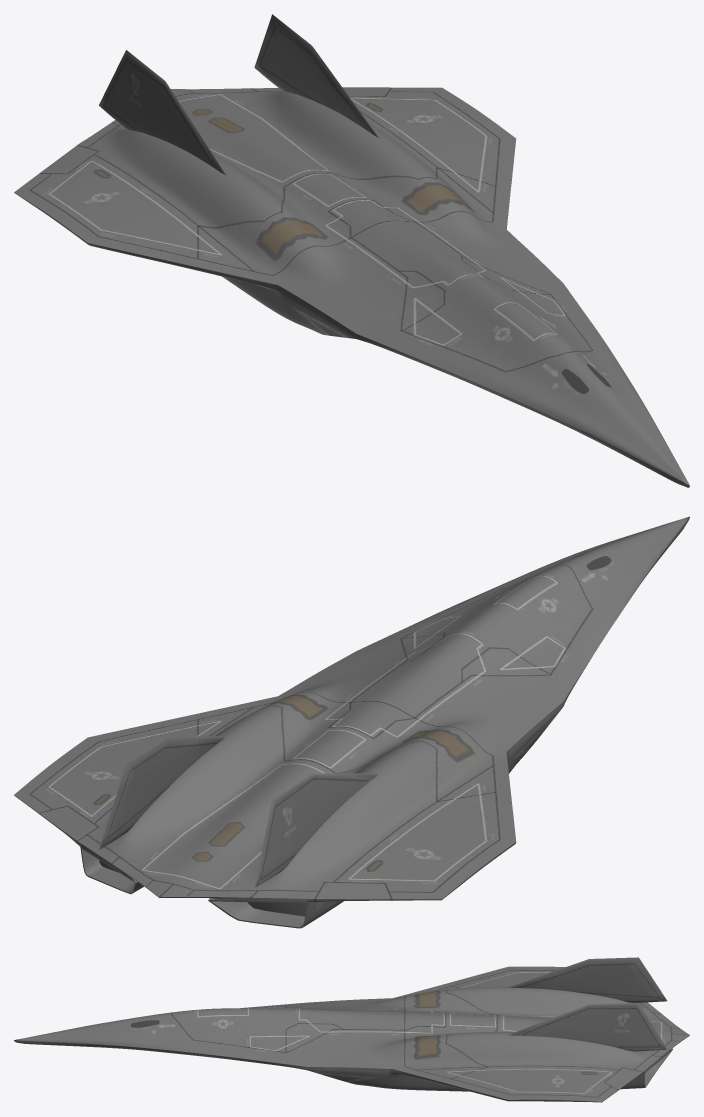
3 views of the same model, one above another, from view 1: azimuth 30°, elevation 25°; view 2: azimuth 150°, elevation 25°; view 3: azimuth 270°, elevation 25° (orthographic). The views are drawn at different scales.
Parts seen in each view (by area): view 1: Darkstar_Material_0, V_Stblz_Material_0; view 2: Darkstar_Material_0, V_Stblz_Material_0; view 3: Darkstar_Material_0, V_Stblz_Material_0.
Part boxes in pixels (box(x1,y1,x2,y2)): Darkstar_Material_0: box(14, 87, 689, 487); V_Stblz_Material_0: box(99, 14, 378, 175); Darkstar_Material_0: box(14, 516, 689, 928); V_Stblz_Material_0: box(99, 736, 378, 887); Darkstar_Material_0: box(14, 966, 689, 1102); V_Stblz_Material_0: box(507, 957, 667, 1051).
Bounding box in the file's own units: 3.99 × 1.11 × 8.57.
2 materials, 1 textured.
